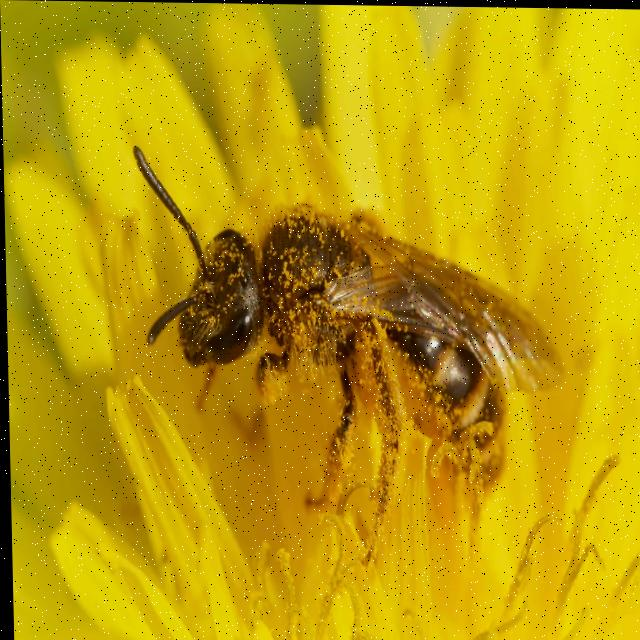Lasioglossum: (126, 127, 574, 540)
